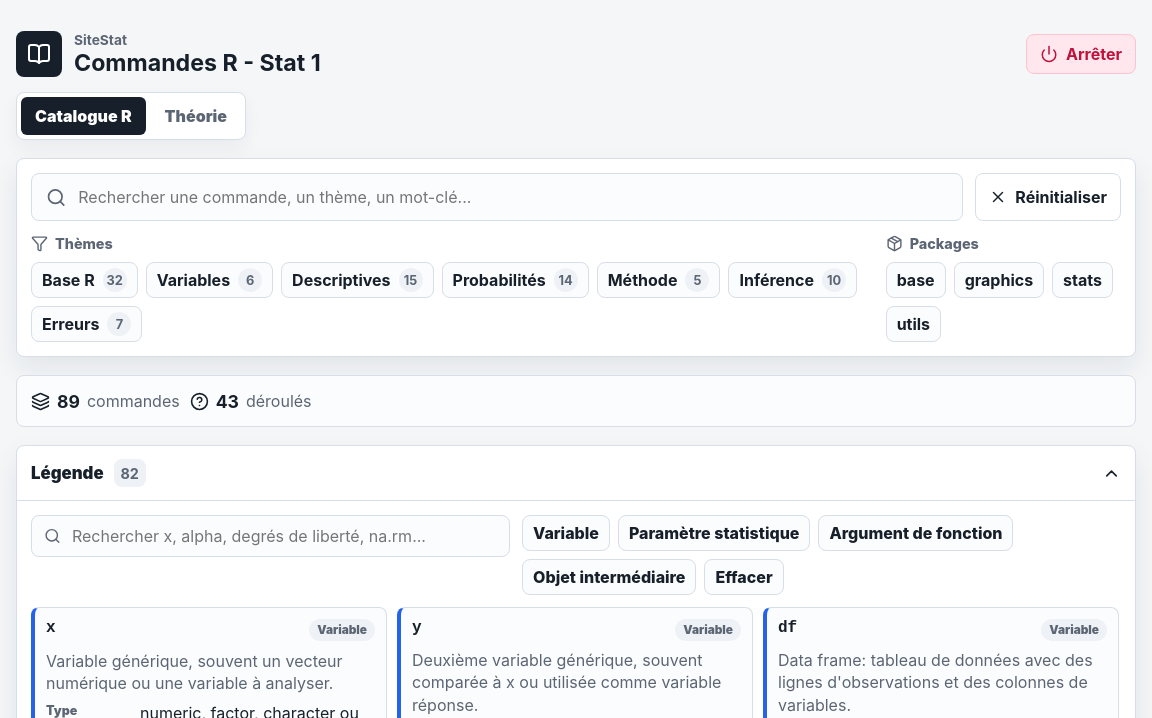
Scenario: App › affiche un schéma pédagogique dans les fiches de théorie
Click the button "Théorie". click: (196, 116)
box: [151,97,241,135]
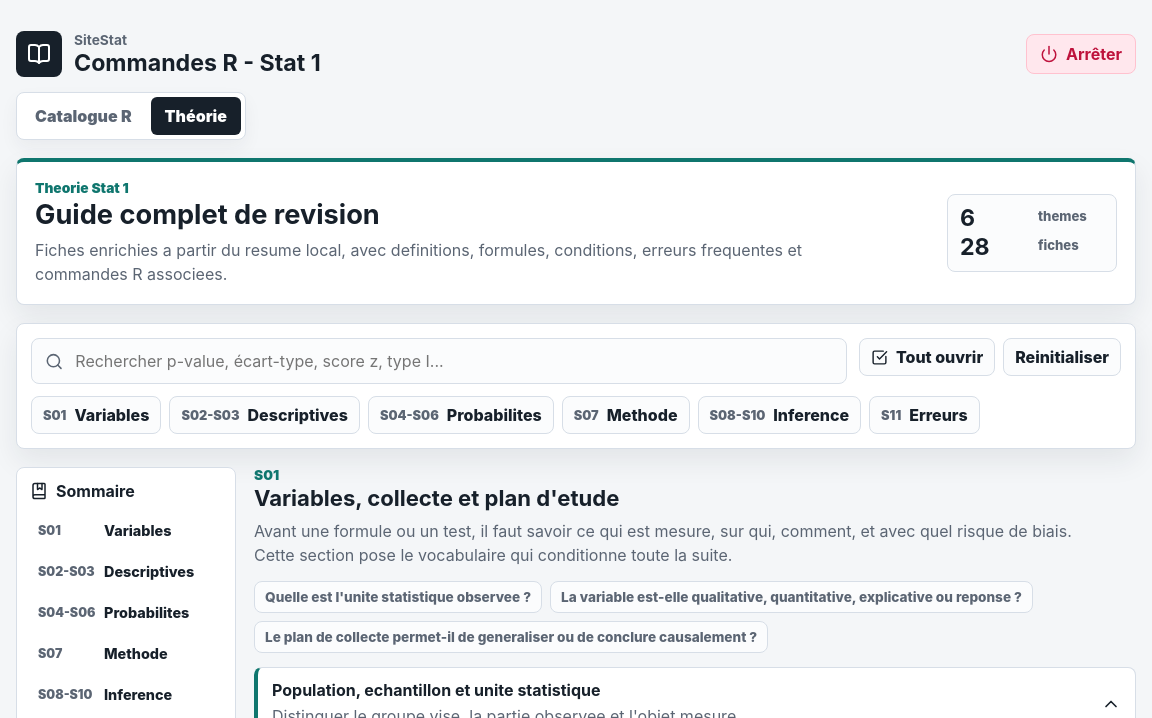
Type "boxplot iqr" into the search field named "Rechercher dans la théorie". click: (453, 361)
box: [73,350,833,372]
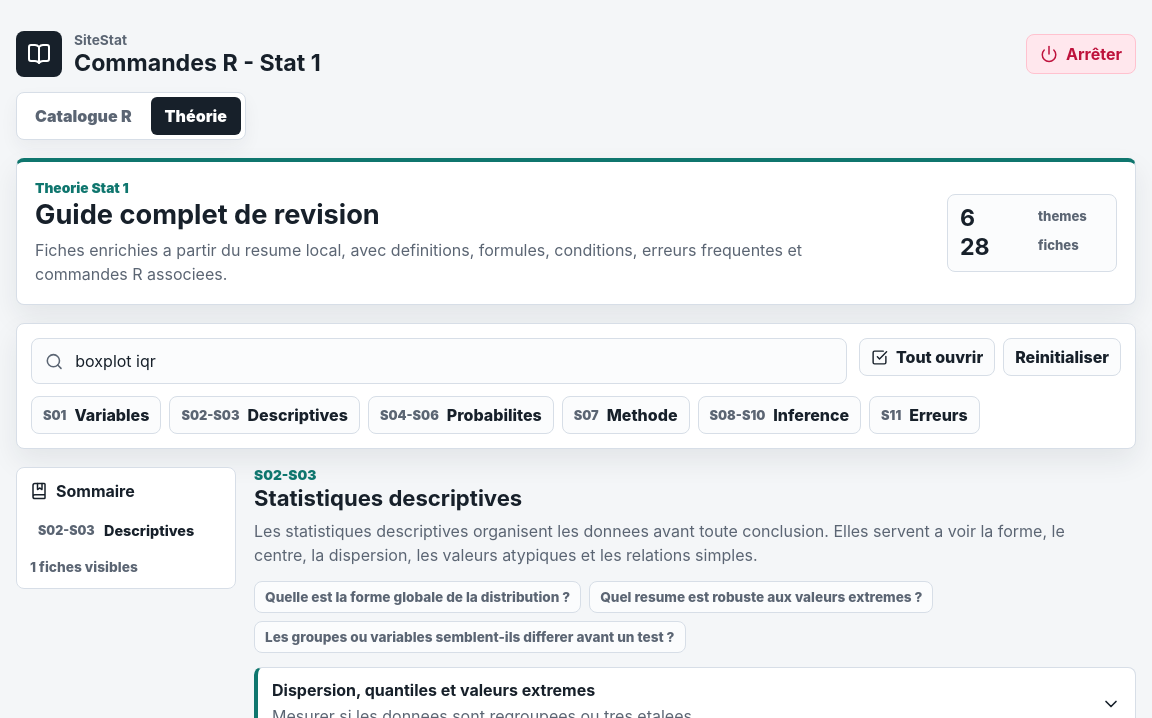
Click the button "Tout ouvrir". click: (927, 357)
box: [859,338,995,376]
(page scrolled)
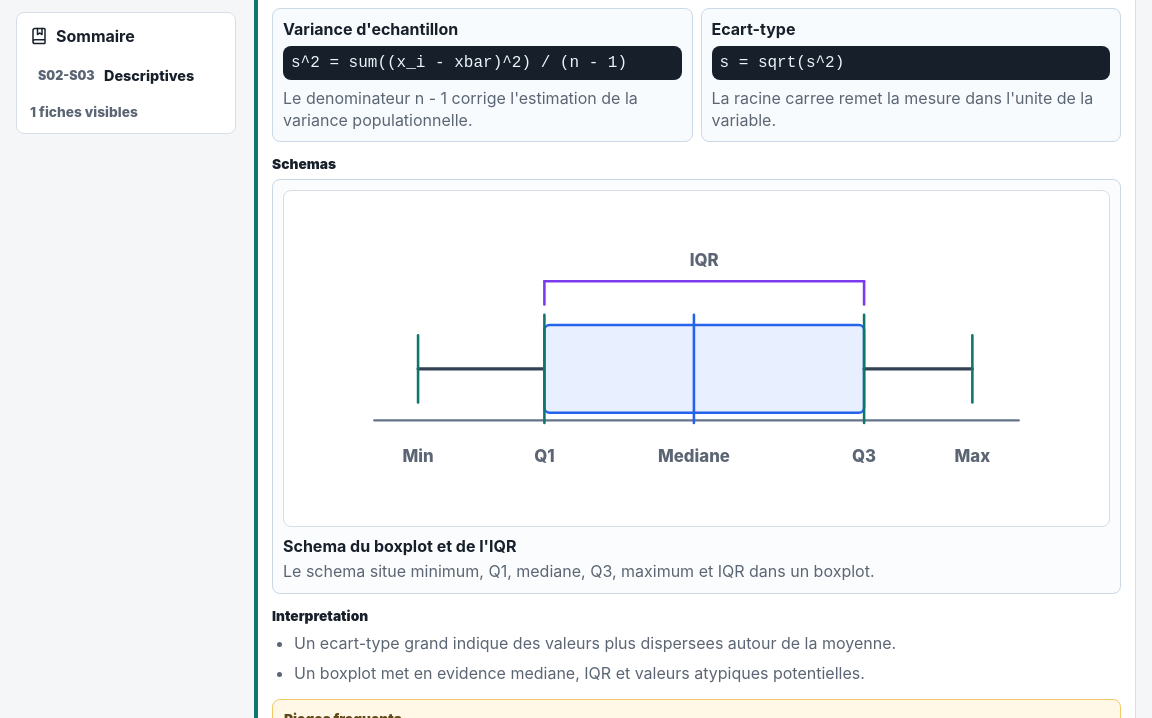
Result: the picture named "Schema du boxplot et de l'IQR" is shown at [284,191,1109,526]
